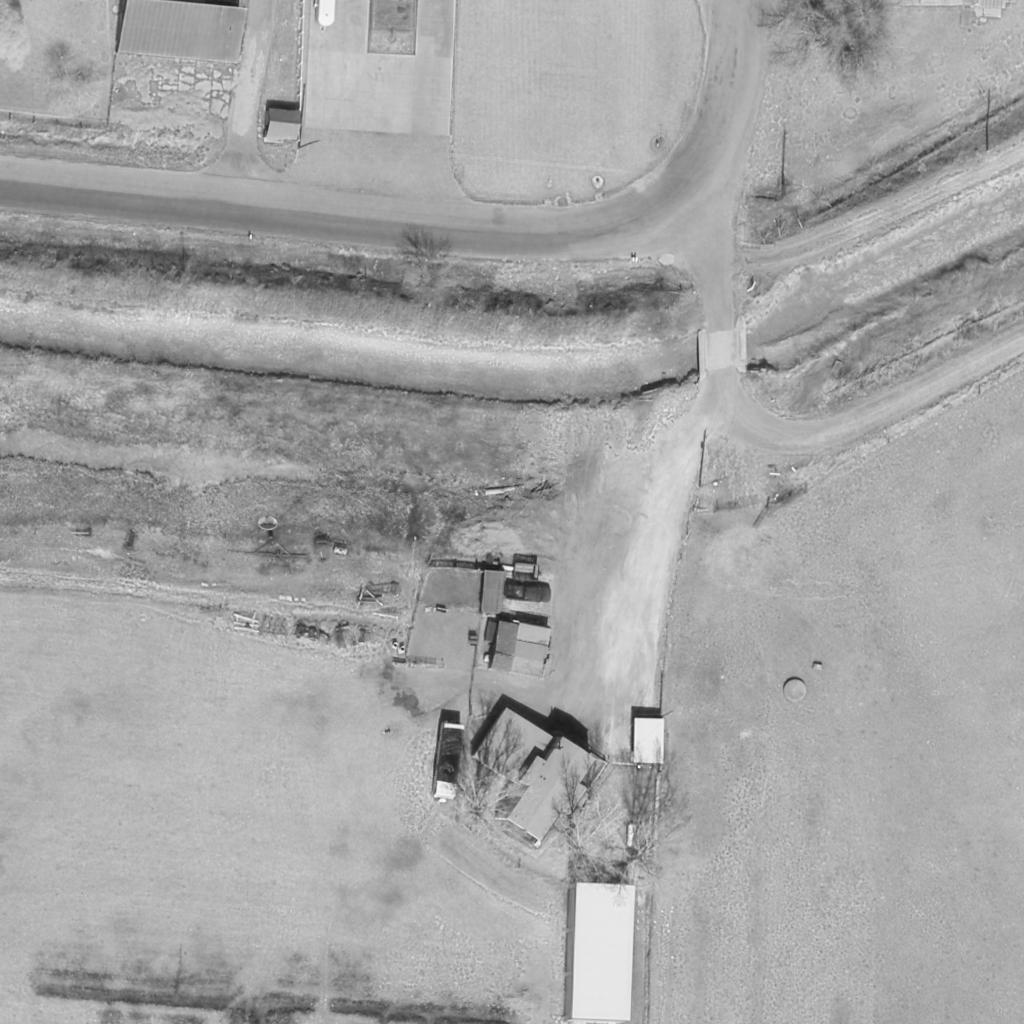vehicle: (434, 721, 466, 801), (504, 579, 552, 605)
